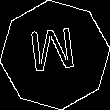M_S: (29, 27, 81, 83)
